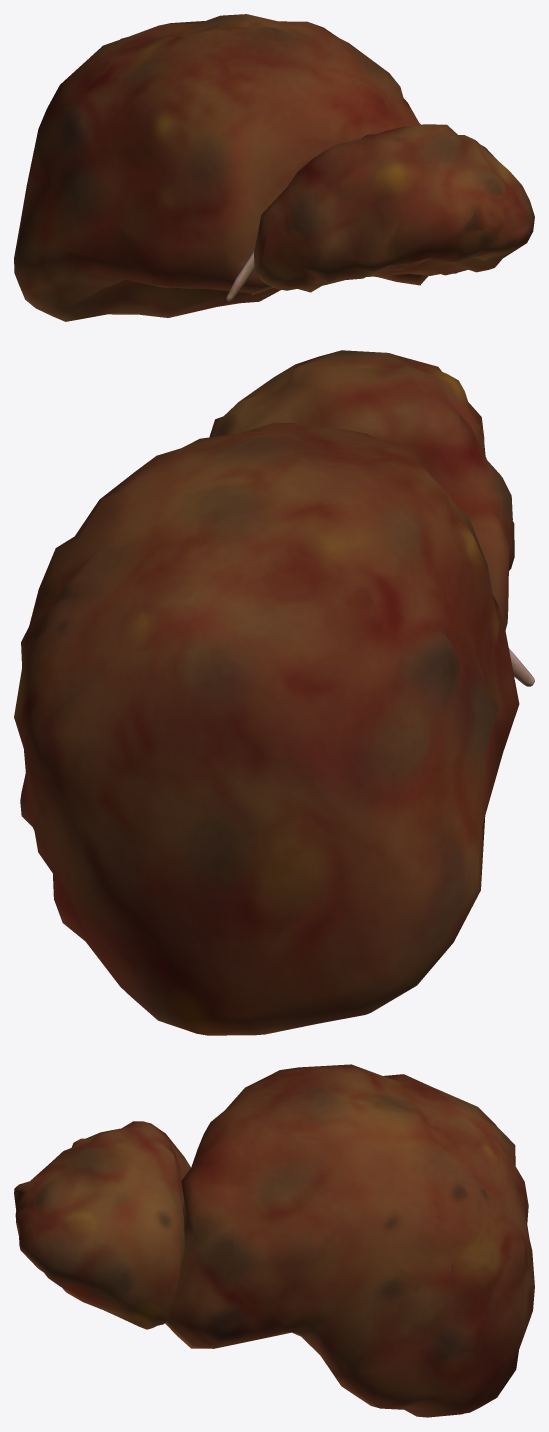
File: figado.glb
The picture shows the model from 3 angles, top to bottom: view 1: azimuth 30°, elevation 25°; view 2: azimuth 150°, elevation 25°; view 3: azimuth 270°, elevation 25°; orthographic projection. The views are drawn at different scales.
Visible parts, largest first — view 1: Object_5, Object_3, Object_4; view 2: Object_5, Object_3; view 3: Object_5, Object_3.
Part boxes in pixels (bbox=[...]): Object_5: bbox=[14, 14, 428, 321]; Object_3: bbox=[254, 124, 534, 292]; Object_4: bbox=[226, 249, 254, 301]; Object_5: bbox=[14, 422, 519, 1035]; Object_3: bbox=[209, 350, 514, 630]; Object_5: bbox=[165, 1064, 534, 1417]; Object_3: bbox=[14, 1121, 190, 1329].
Size of the model in its own units: 0.3792 by 0.3625 by 0.5303.
3 materials, 3 textured.
